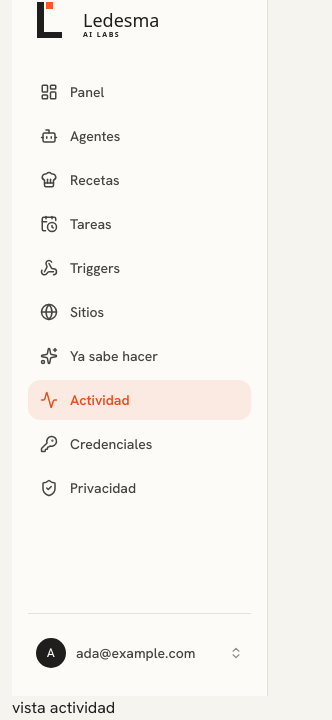
Test case: scroll al tope en cambio de ruta › cerrar sesion limpia la sesion y aterriza la landing en el tope
This screenshot has width=332, height=720.
(page scrolled)
What coordinates should you click on to do the following:
click the button "A ada@example.com"
I would click on:
 (140, 653)
Its box is [28,630,251,676].
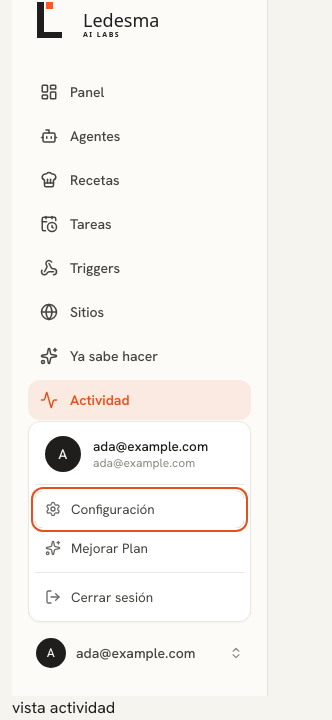
What coordinates should you click on to do the following:
click the menu item "Cerrar sesión"
I would click on:
 (140, 597)
Its box is [35,579,244,615].
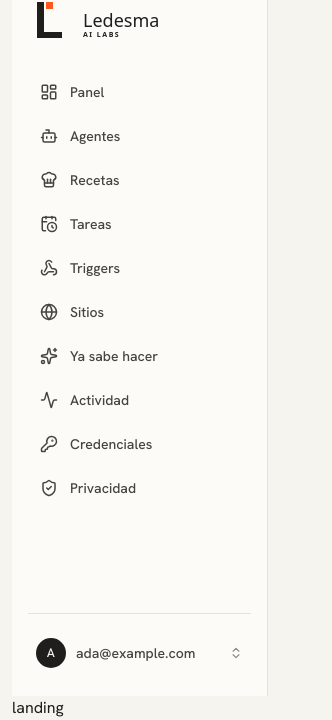
Check: the text "landing" is shown, box [12,697,64,718]
